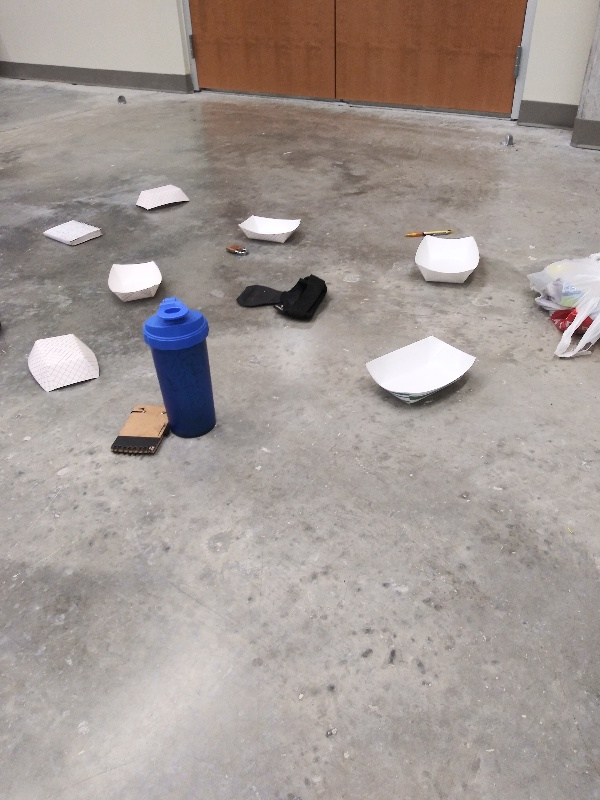plate: (358, 330, 478, 407), (23, 330, 100, 396), (414, 232, 482, 288), (105, 257, 166, 305), (235, 212, 306, 247), (129, 182, 194, 212)
